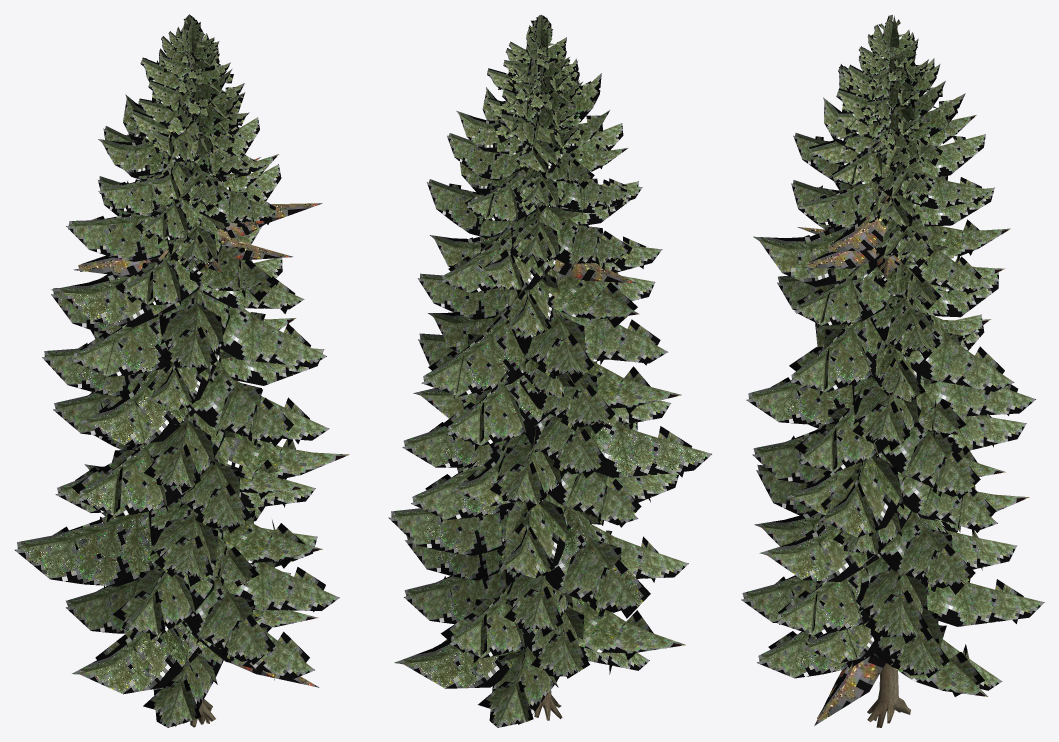
The model's file is temperate-pine-a-close.glb.
3 views of the same model, side by side, from view 1: azimuth 30°, elevation 25°; view 2: azimuth 150°, elevation 25°; view 3: azimuth 270°, elevation 25° (orthographic).
Parts seen in each view (by area): view 1: pine_a_LOD0; view 2: pine_a_LOD0; view 3: pine_a_LOD0.
Part boxes in pixels (x1=…): pine_a_LOD0: x1=15, y1=14, x2=349, y2=727; pine_a_LOD0: x1=388, y1=14, x2=711, y2=727; pine_a_LOD0: x1=741, y1=15, x2=1044, y2=727.
Size of the model in its own units: 19.54 by 47.91 by 18.66.
Materials: 1 (1 with a texture image).
